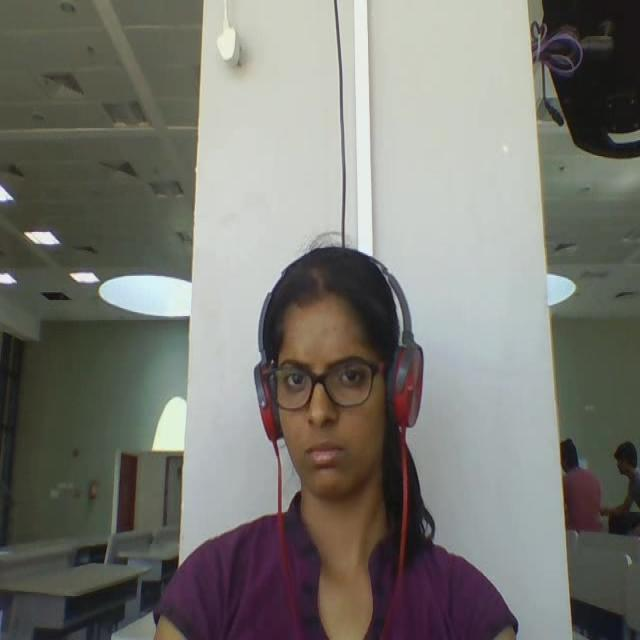Engaged: (230, 224, 448, 562)
